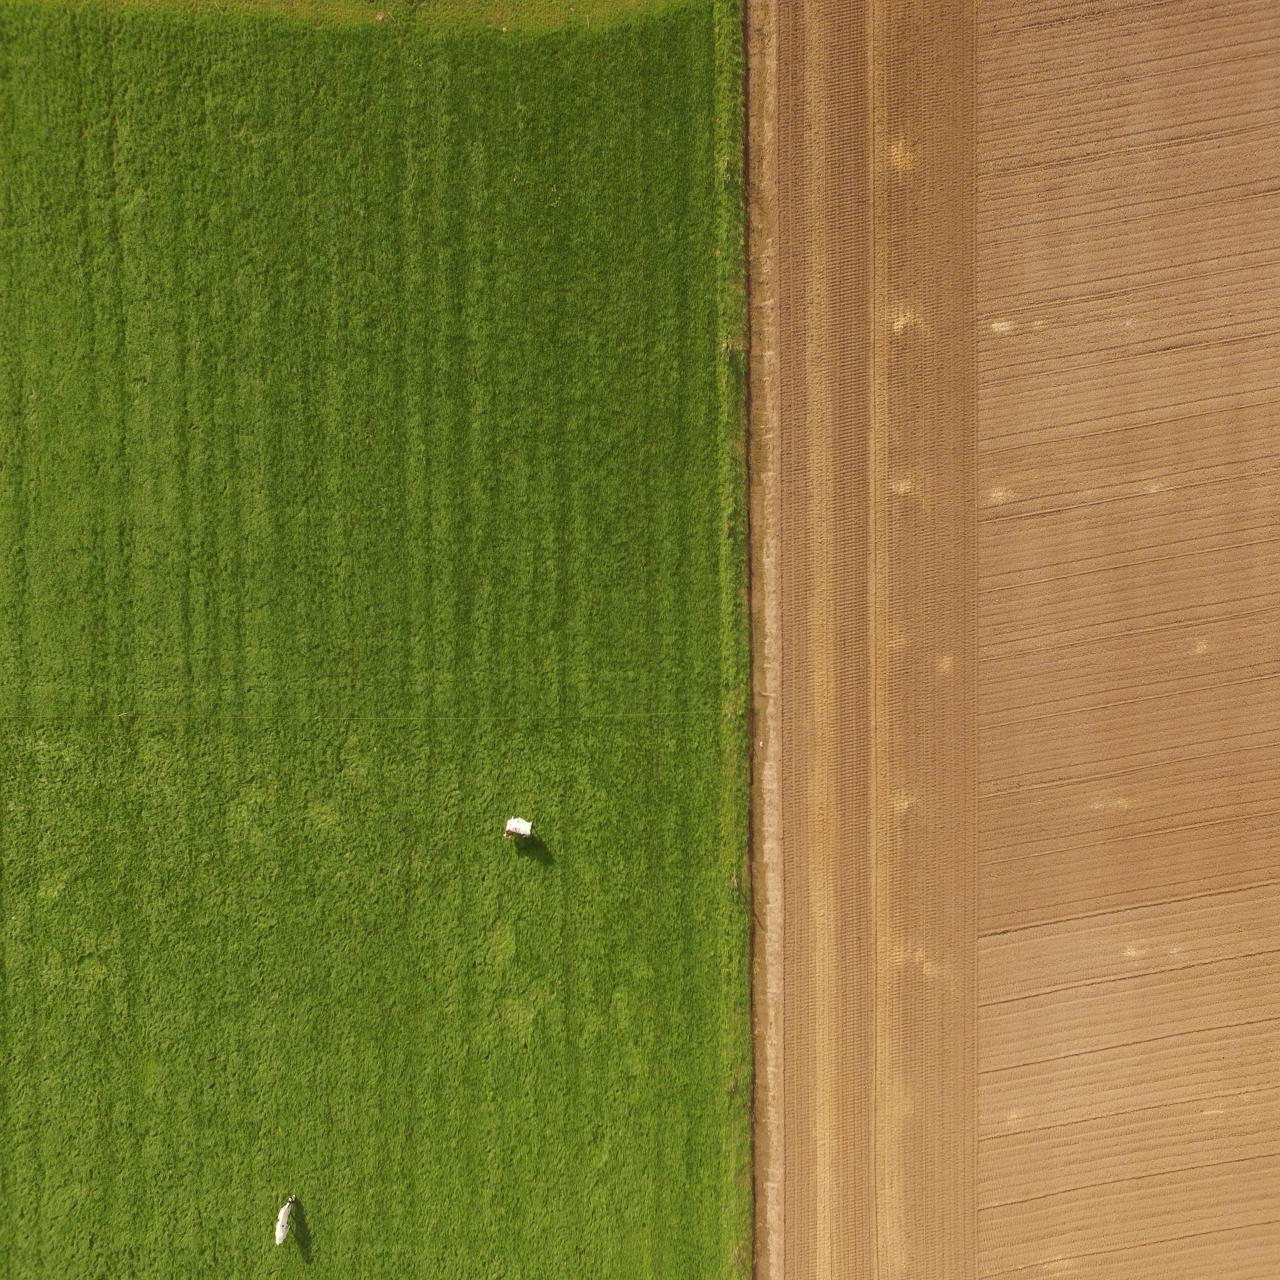cow: (500, 807, 534, 852), (273, 1187, 296, 1253)
